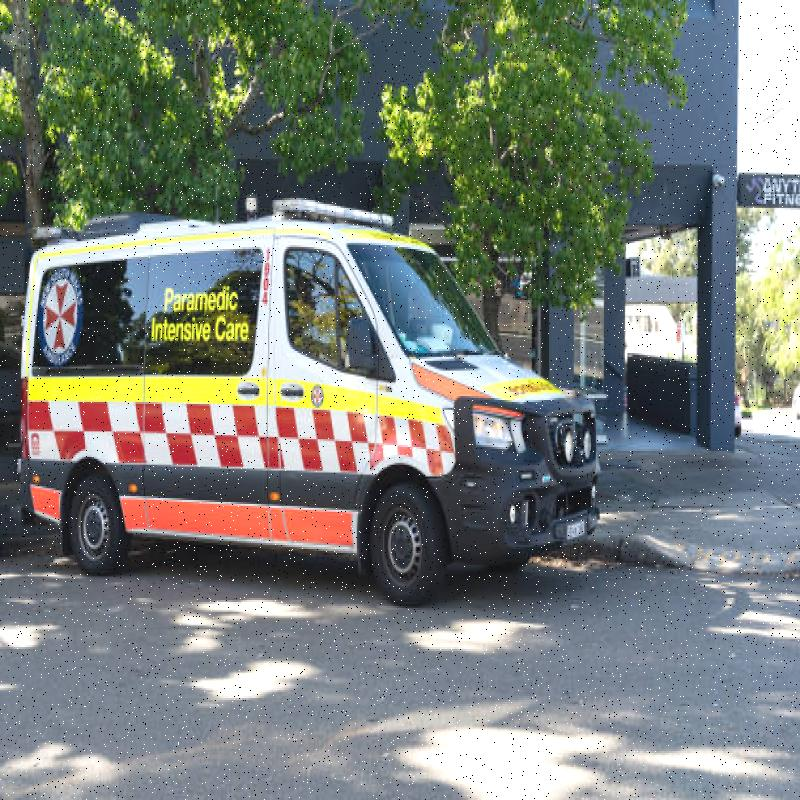ambulance: (16, 210, 610, 612)
